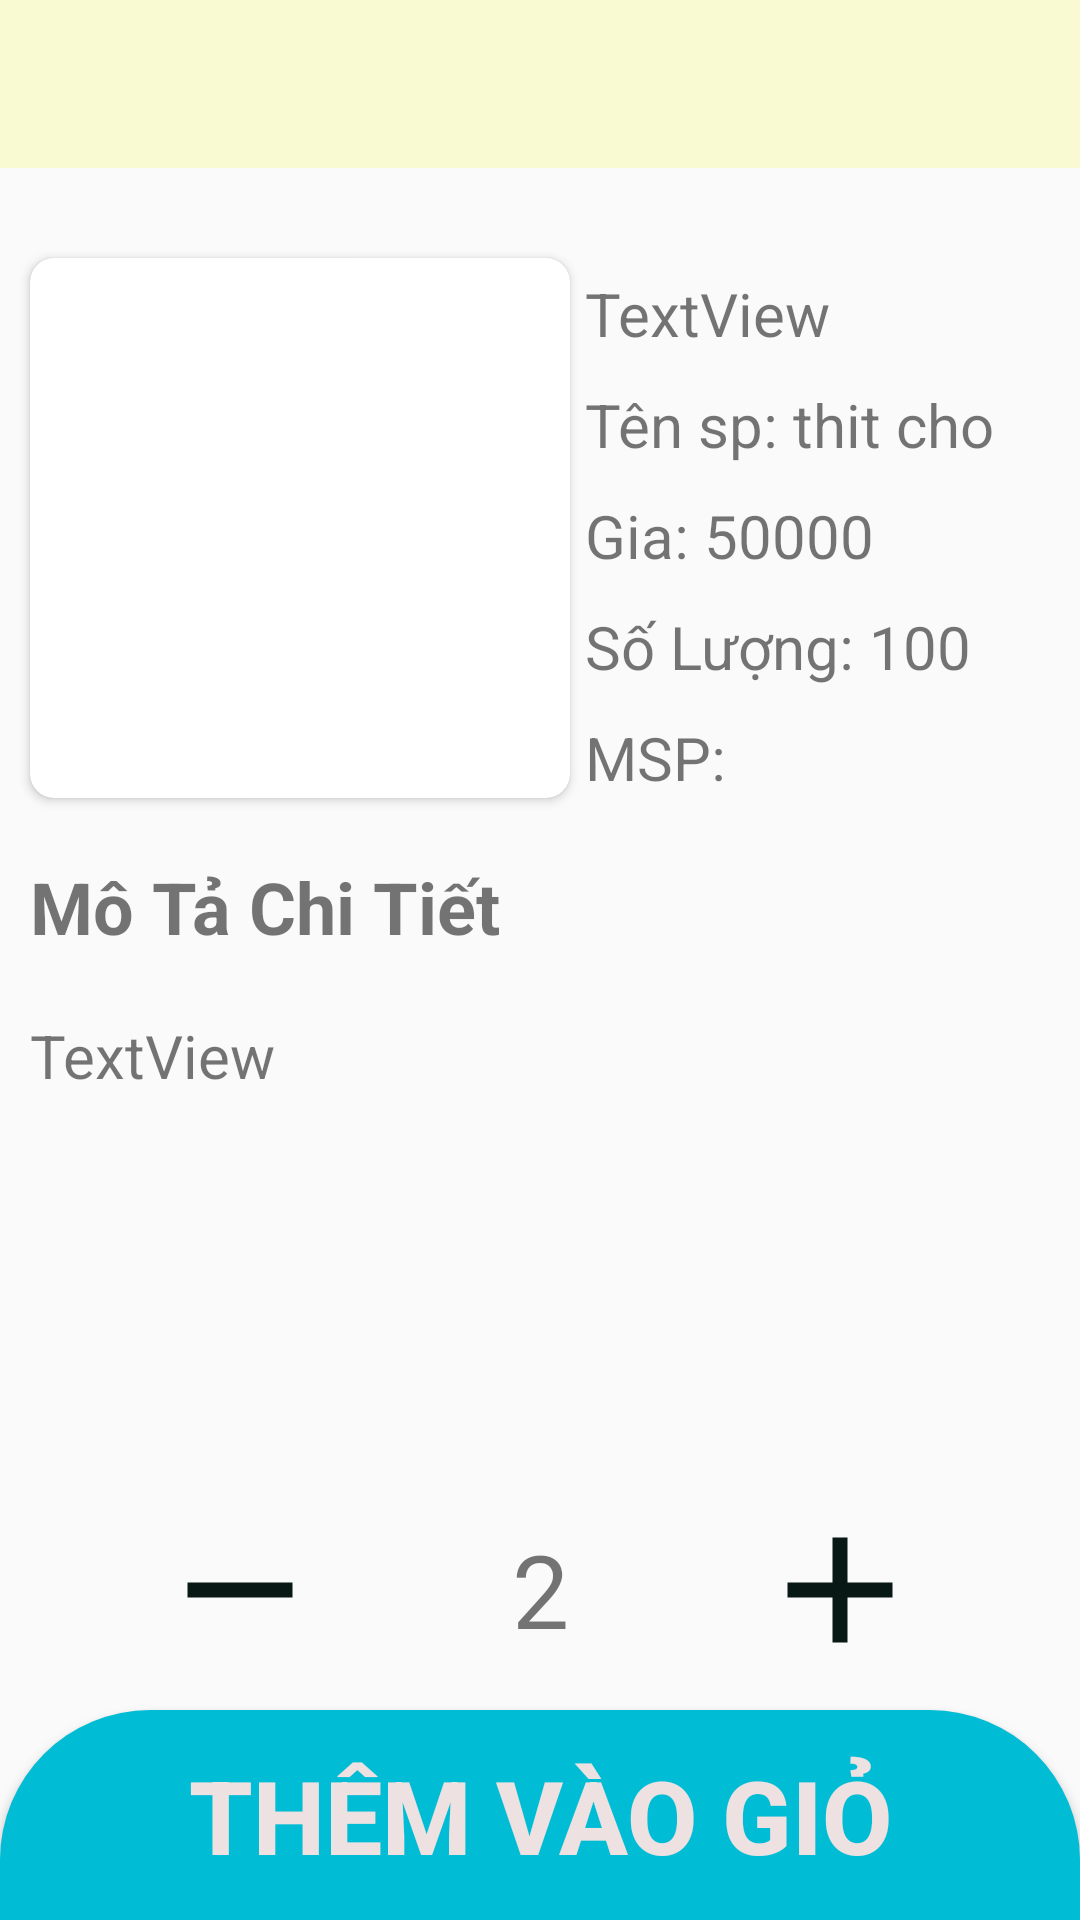

Icon bounding boxes for this 1080w x 1920h phone screenshot, format bbox(x1, y1, x2, y2):
add: bbox(787, 1537, 893, 1643)
